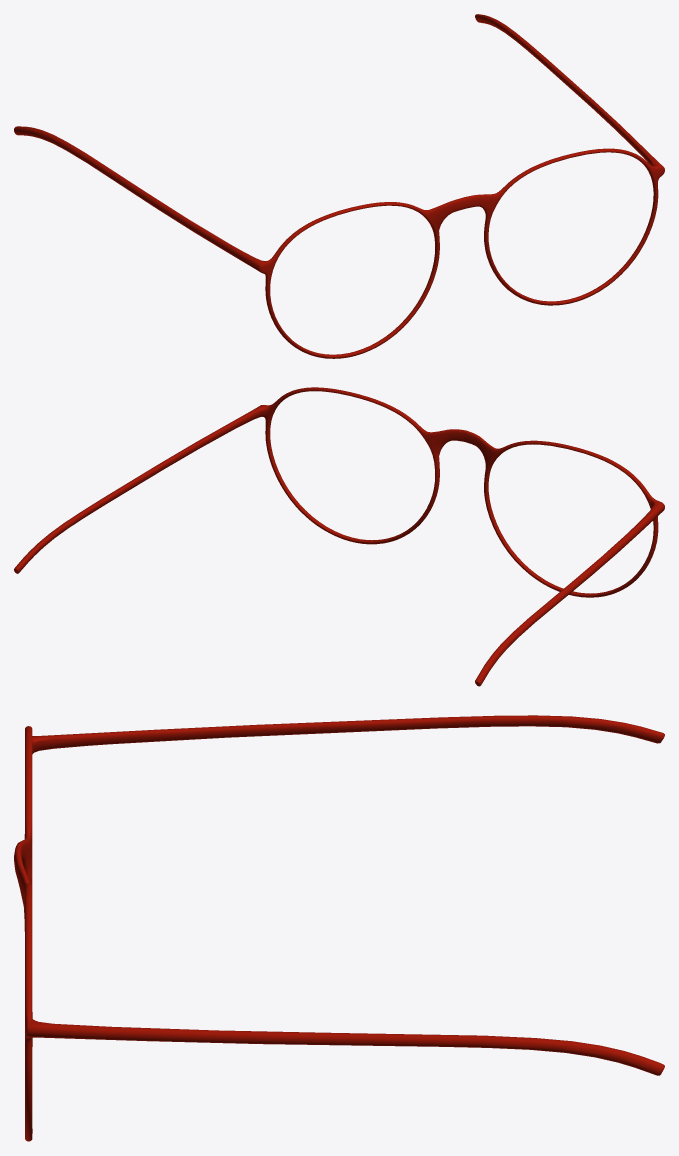
The model's file is eyewear-glasses-red-05f97219.glb.
3 renders of one model, top to bottom at view 1: azimuth 30°, elevation 25°; view 2: azimuth 150°, elevation 25°; view 3: azimuth 270°, elevation 25°, orthographic. The views are drawn at different scales.
Visible parts, largest first — view 1: glasses_red.001; view 2: glasses_red.001; view 3: glasses_red.001.
Boxes of the visible parts, x1,y1,x2,y2 form: glasses_red.001: (14, 14, 664, 358); glasses_red.001: (14, 387, 664, 686); glasses_red.001: (14, 715, 664, 1141).
Bounding box in the file's own units: 1.75 × 0.533 × 1.43.
